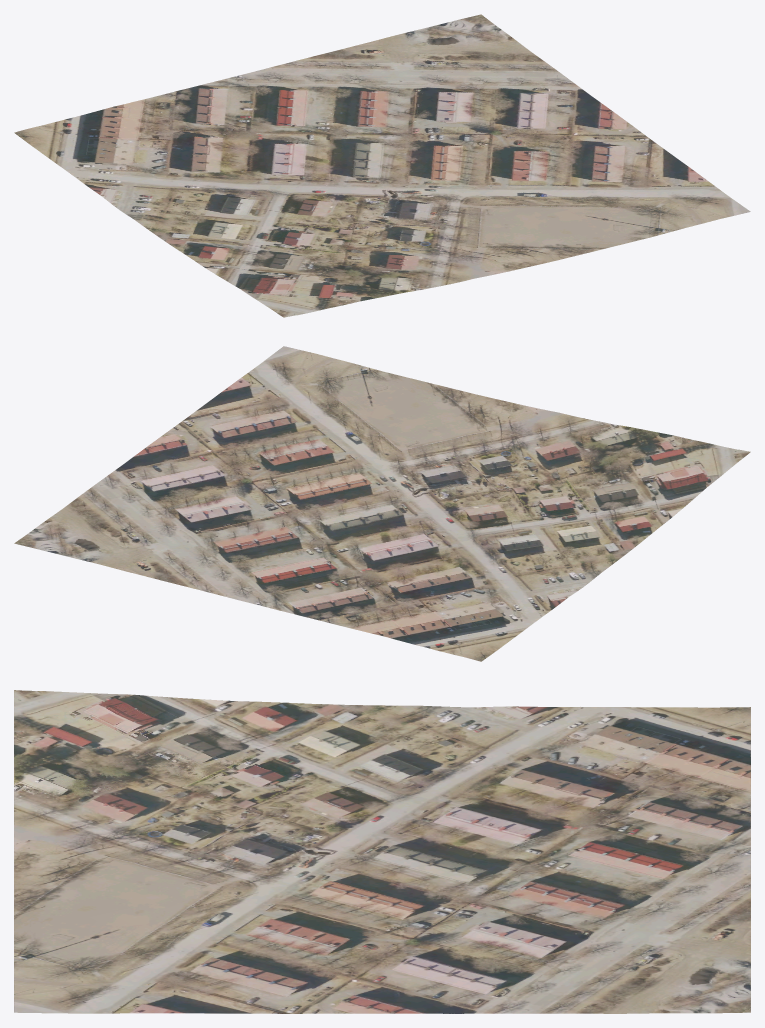
File: CM_Terrain_24489025_6819384.fbx
3 renders of one model, top to bottom at view 1: azimuth 30°, elevation 25°; view 2: azimuth 150°, elevation 25°; view 3: azimuth 270°, elevation 25°, orthographic. The views are drawn at different scales.
Visible parts, largest first — view 1: CM_Terrain_24489025_6819384_LOD0; view 2: CM_Terrain_24489025_6819384_LOD0; view 3: CM_Terrain_24489025_6819384_LOD0.
Part boxes in pixels (bbox=[...]): CM_Terrain_24489025_6819384_LOD0: bbox=[14, 14, 750, 317]; CM_Terrain_24489025_6819384_LOD0: bbox=[14, 346, 750, 661]; CM_Terrain_24489025_6819384_LOD0: bbox=[14, 690, 750, 1013].
Size of what is drawn, in the model's own units: 205 by 5.6 by 205.
